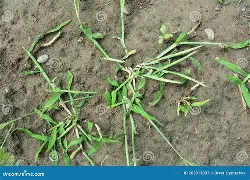weed: (23, 28, 235, 152)
